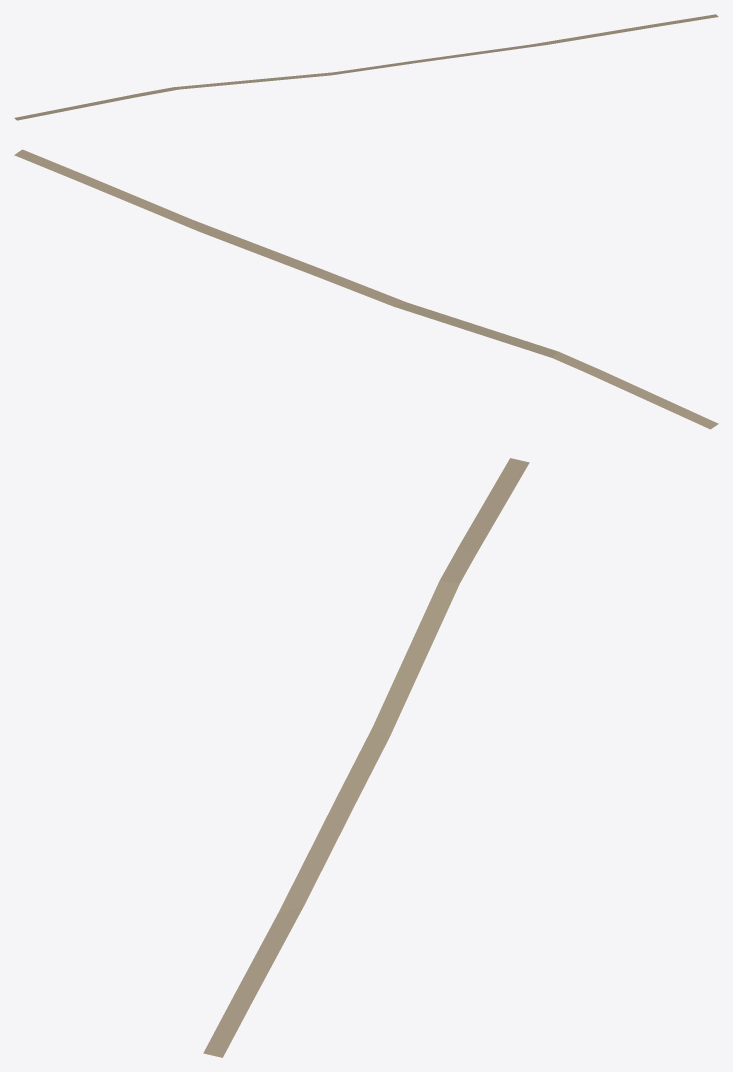
Rendered from farm_15_4_track.glb.
3 renders of one model, top to bottom at view 1: azimuth 30°, elevation 25°; view 2: azimuth 150°, elevation 25°; view 3: azimuth 270°, elevation 25°, orthographic. The views are drawn at different scales.
Visible parts, largest first — view 1: geometry_0; view 2: geometry_0; view 3: geometry_0.
Part boxes in pixels (box(x1,y1,x2,y2)): geometry_0: box(14, 14, 718, 120); geometry_0: box(14, 149, 718, 429); geometry_0: box(203, 458, 529, 1057).
Size of the model in its own units: 237 by 3.69 by 53.46.
